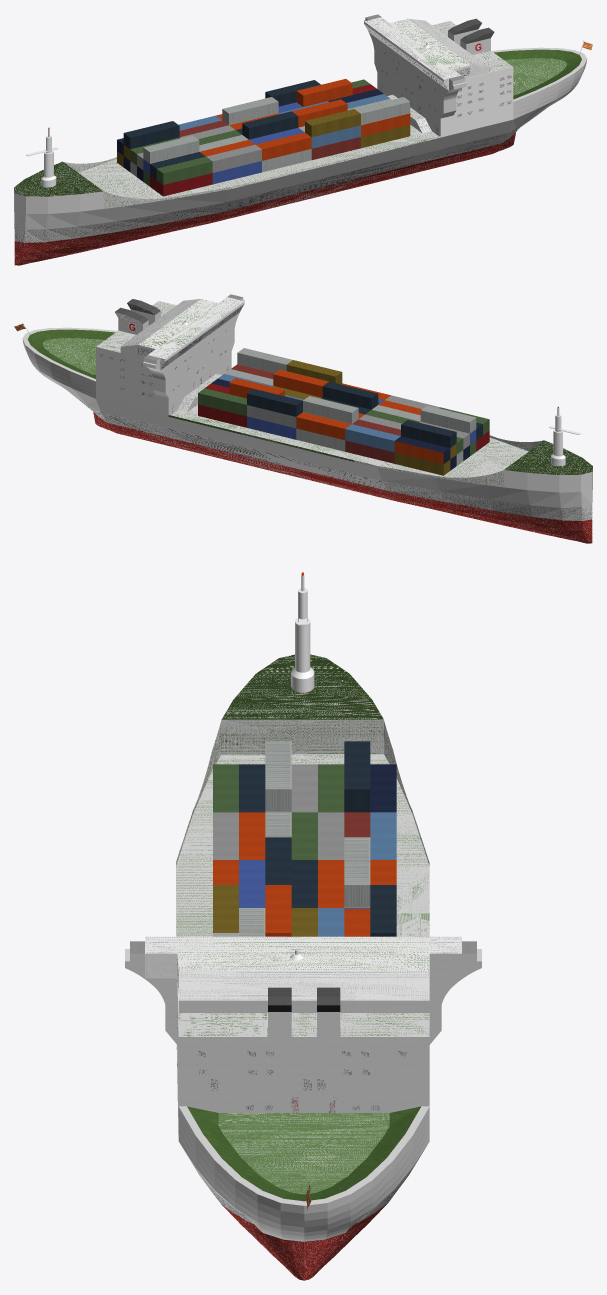
Rendered from barco de carga.dae.
The picture shows the model from 3 angles, top to bottom: view 1: azimuth 30°, elevation 25°; view 2: azimuth 150°, elevation 25°; view 3: azimuth 270°, elevation 25°; orthographic projection. The views are drawn at different scales.
Parts seen in each view (by area): view 1: SketchUp (×16), Componente_2 (×4), Componente_13 (×4), Componente_9 (×4), Componente_7 (×2), Componente_11, Componente_6 (×2), Componente_14, Componente_10, Componente_8, Componente_12, Componente_5 (+1 smaller); view 2: SketchUp (×15), Componente_2 (×4), Componente_13 (×3), Componente_9 (×3), Componente_7 (×2), Componente_8 (×2), Componente_12, Componente_11, Componente_6, Componente_14, Componente_5, Componente_10 (+1 smaller); view 3: SketchUp (×14), Componente_13 (×5), Componente_9 (×3), Componente_11 (×3), Componente_14 (×3), Componente_2 (×2), Componente_8, Componente_3, Componente_12, Componente_6, Componente_7.
Boxes of the visible parts, x1,y1,x2,y2 form: SketchUp (×16): (14,14,587,265); Componente_2 (×4): (143,97,410,172); Componente_13 (×4): (123,80,320,179); Componente_9 (×4): (200,79,352,160); Componente_7 (×2): (305,109,410,148); Componente_11: (156,156,212,184); Componente_6 (×2): (212,127,304,184); Componente_14: (206,144,261,172); Componente_10: (156,173,212,196); Componente_8: (361,113,410,136); Componente_12: (311,125,360,148); Componente_5: (311,137,360,159); SketchUp (×15): (22,294,592,543); Componente_2 (×4): (237,348,476,451); Componente_13 (×3): (247,381,456,447); Componente_9 (×3): (229,369,351,440); Componente_7 (×2): (286,360,450,475); Componente_8 (×2): (394,436,450,464); Componente_12: (345,424,400,452); Componente_11: (198,388,246,416); Componente_6: (247,416,296,439); Componente_14: (247,405,296,428); Componente_5: (345,440,394,463); Componente_10: (198,404,246,427); SketchUp (×14): (125,654,481,1280); Componente_13 (×5): (239,741,396,936); Componente_9 (×3): (239,812,344,936); Componente_11 (×3): (213,764,344,859); Componente_14 (×3): (213,764,344,859); Componente_2 (×2): (265,741,370,907); Componente_8: (370,764,396,812); Componente_3: (291,618,314,692); Componente_12: (370,812,396,859); Componente_6: (239,860,265,907); Componente_7: (213,885,238,932).
Bounding box in the file's own units: 6229 × 1668 × 1340.
31 materials, 26 textured.
